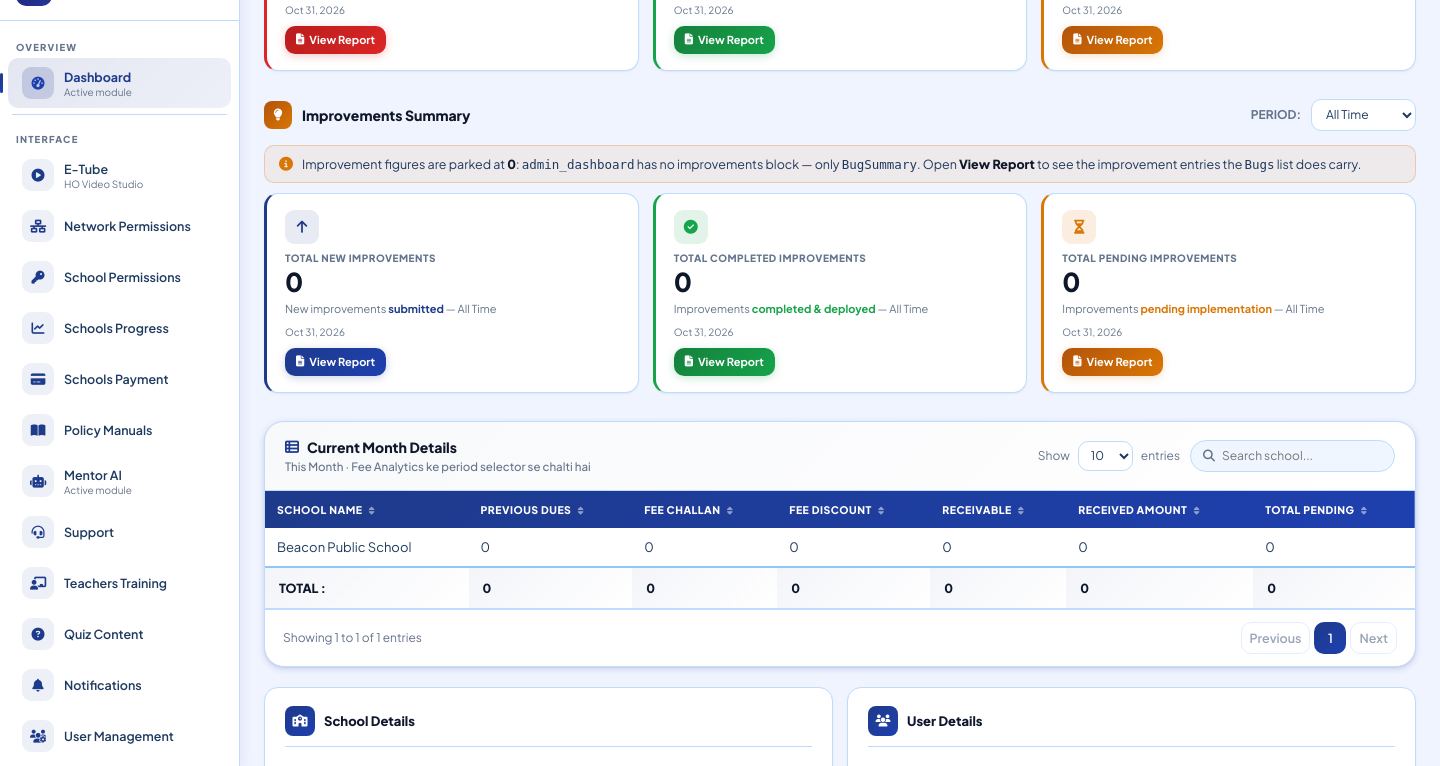
Test: Super Admin — Bugs / Improvements reports › the improvements card reports improvements only
The width and height of the screenshot is (1440, 766).
(page scrolled)
Expected: the text "Improvements Summary" is shown, [302, 106, 470, 124]
Click the button "View Report" below "submitted" at (336, 362), box [285, 348, 386, 376]
(page scrolled)
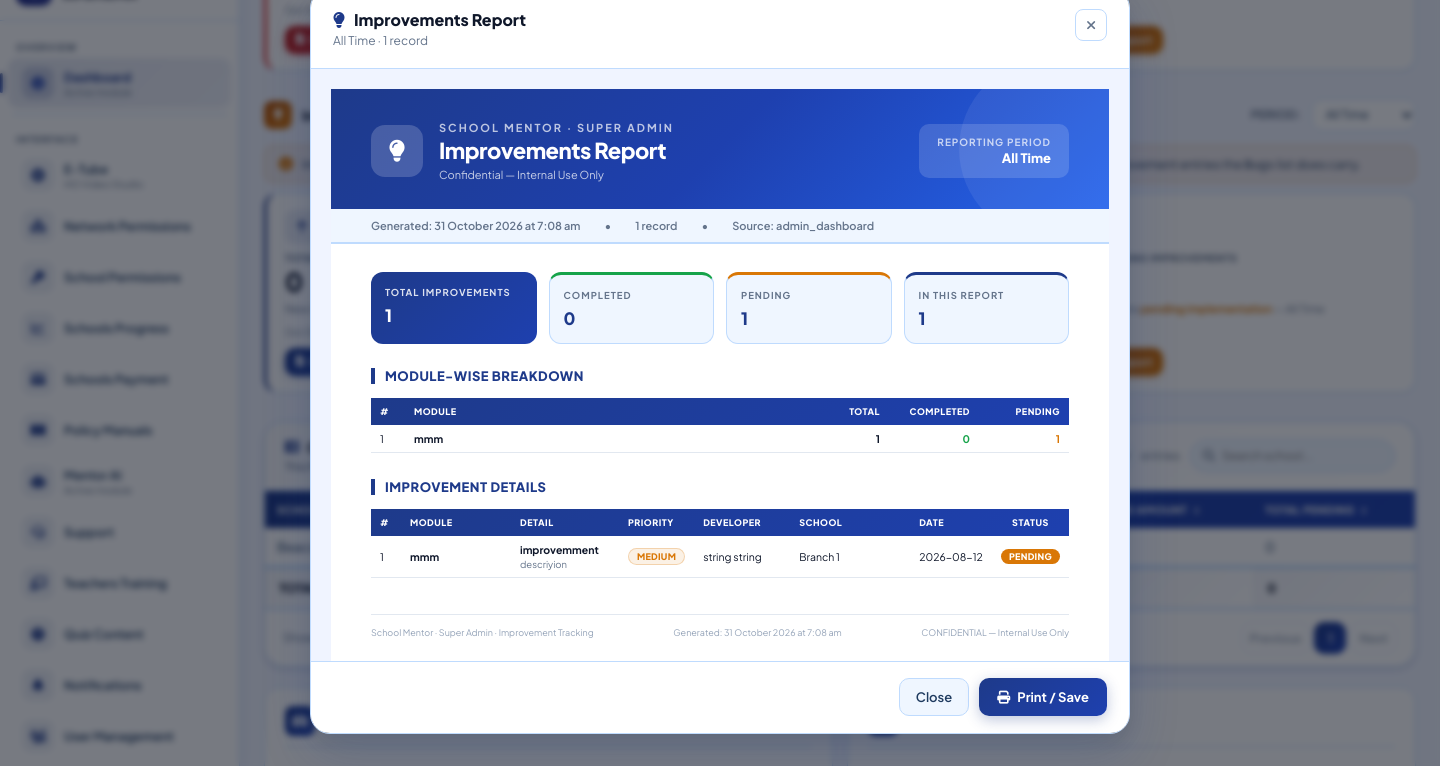
Result: the text "improvemment" is shown at [520, 543, 610, 556]
